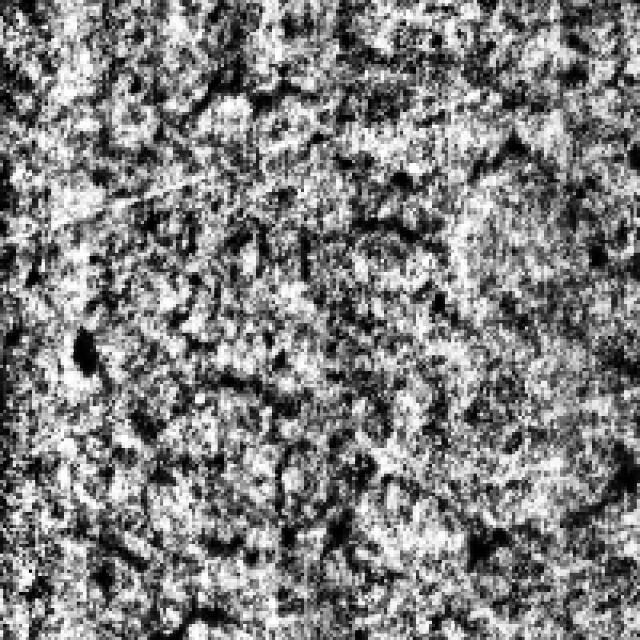Pitted_Surface: (125, 362, 637, 627), (109, 51, 544, 339)
